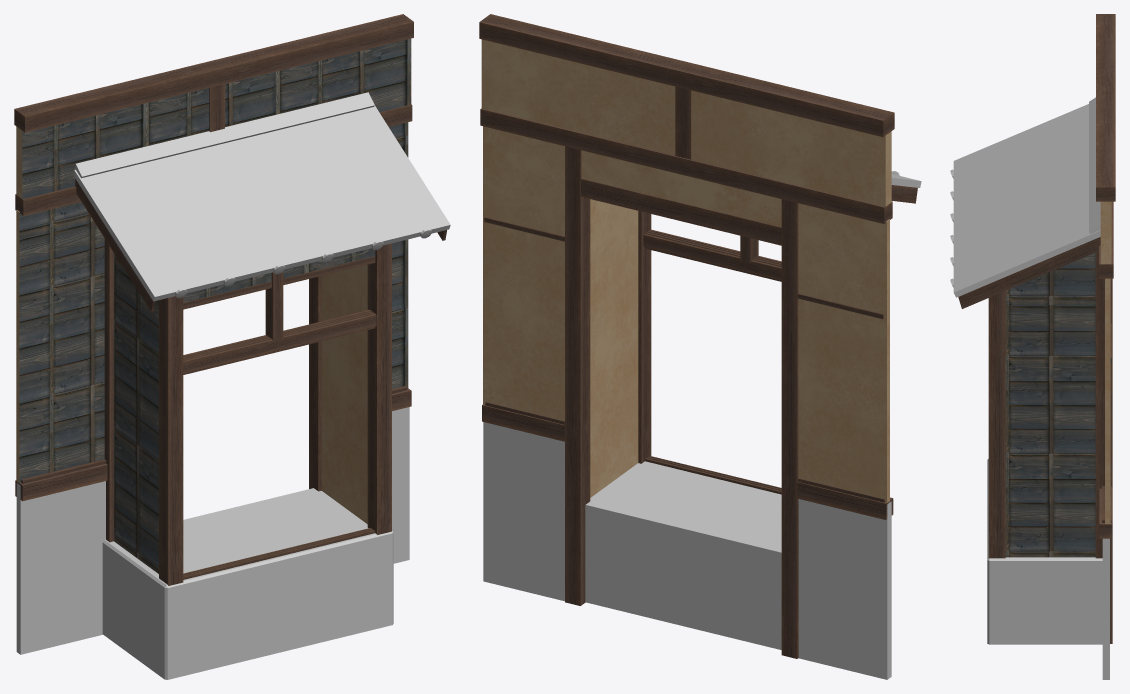
The model's file is kawara_entrance_1tc.fbx.
The picture shows the model from 3 angles, left to right: view 1: azimuth 30°, elevation 25°; view 2: azimuth 150°, elevation 25°; view 3: azimuth 270°, elevation 25°; orthographic projection. The views are drawn at different scales.
Parts seen in each view (by area): view 1: kawara_entrance_1tc; view 2: kawara_entrance_1tc; view 3: kawara_entrance_1tc.
Boxes of the visible parts, x1,y1,x2,y2 form: kawara_entrance_1tc: (14, 14, 450, 679); kawara_entrance_1tc: (479, 14, 921, 679); kawara_entrance_1tc: (950, 14, 1115, 679).
Bounding box in the file's own units: 441 × 584 × 177.
